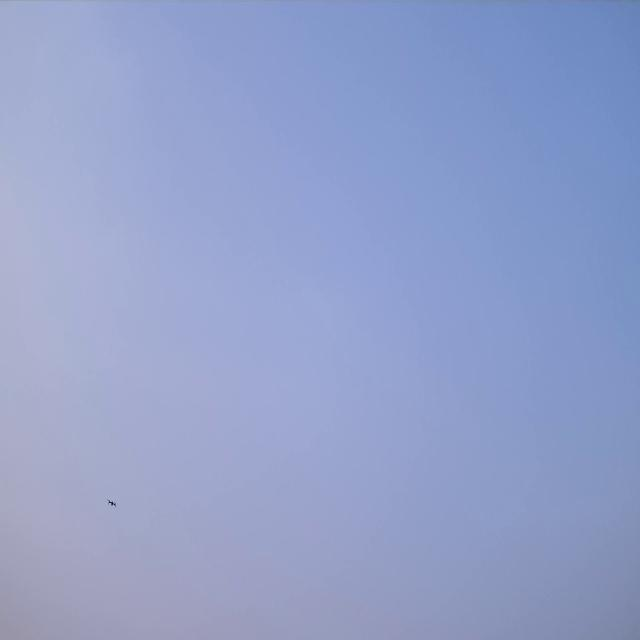UAV: (107, 498, 116, 507)
